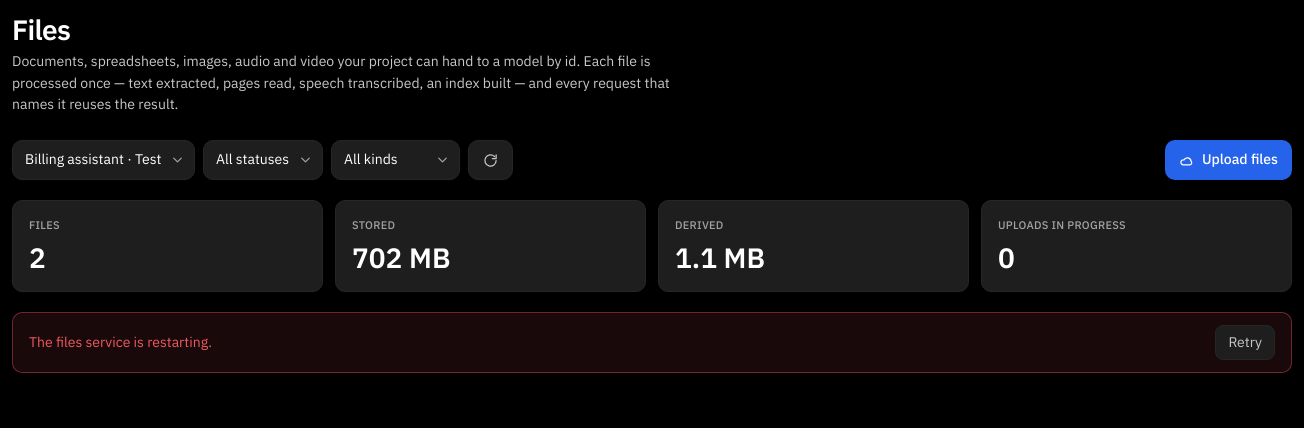
Test: the files list › says why the list could not be loaded, offers Retry, and shows the files once Retry succeeds
Expected: the message shows "The files service is restarting.", [29,333,212,351]
Click the button "Retry".
click(1245, 342)  # box [1215,325,1275,360]
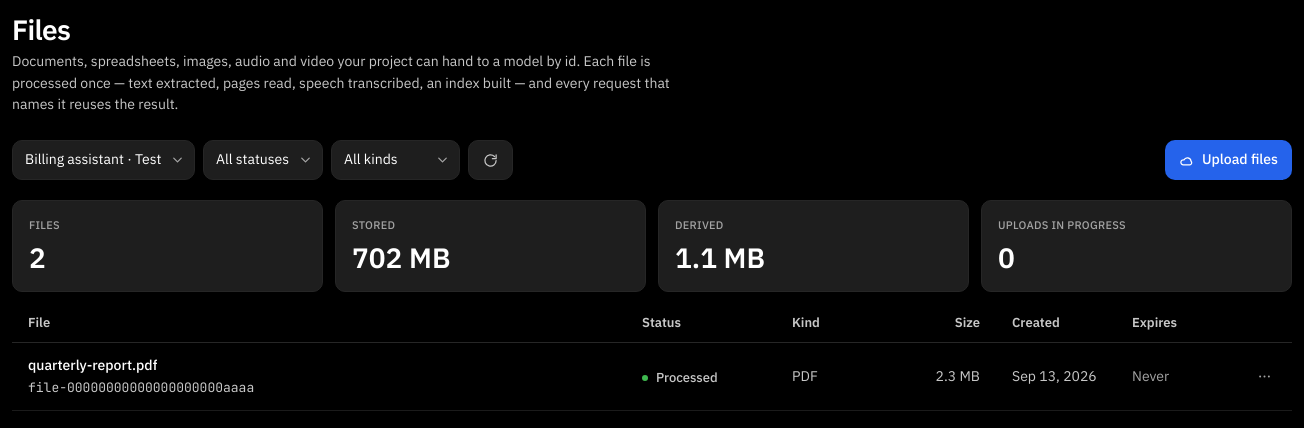
Expected: the button "quarterly-report.pdf" is shown, [28,355,157,377]
Expected: the message "The files service is restarting. Retry" is gone
